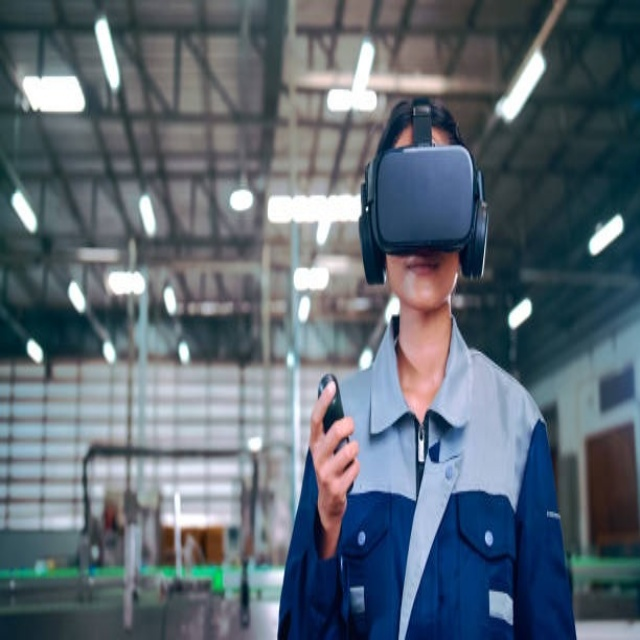Sin_guantes: (308, 377, 361, 530)
Sin_mascara: (404, 251, 447, 300)
